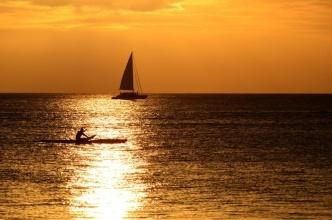fanchuan: (111, 50, 154, 101)
